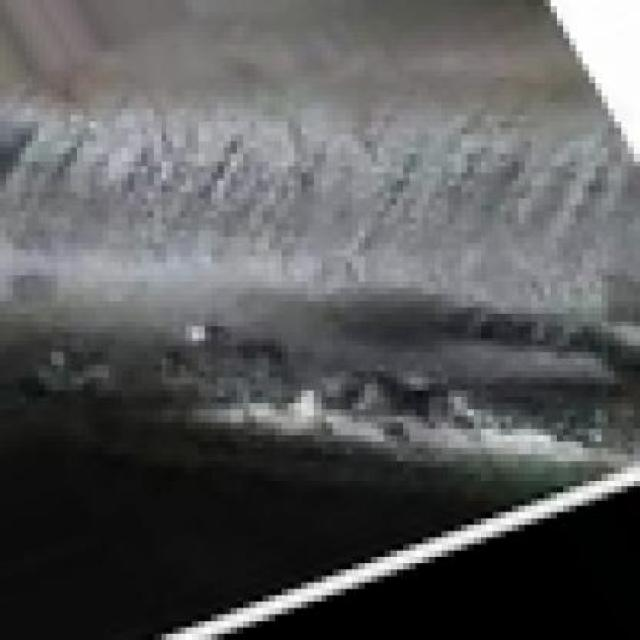defective: (4, 91, 640, 532)
